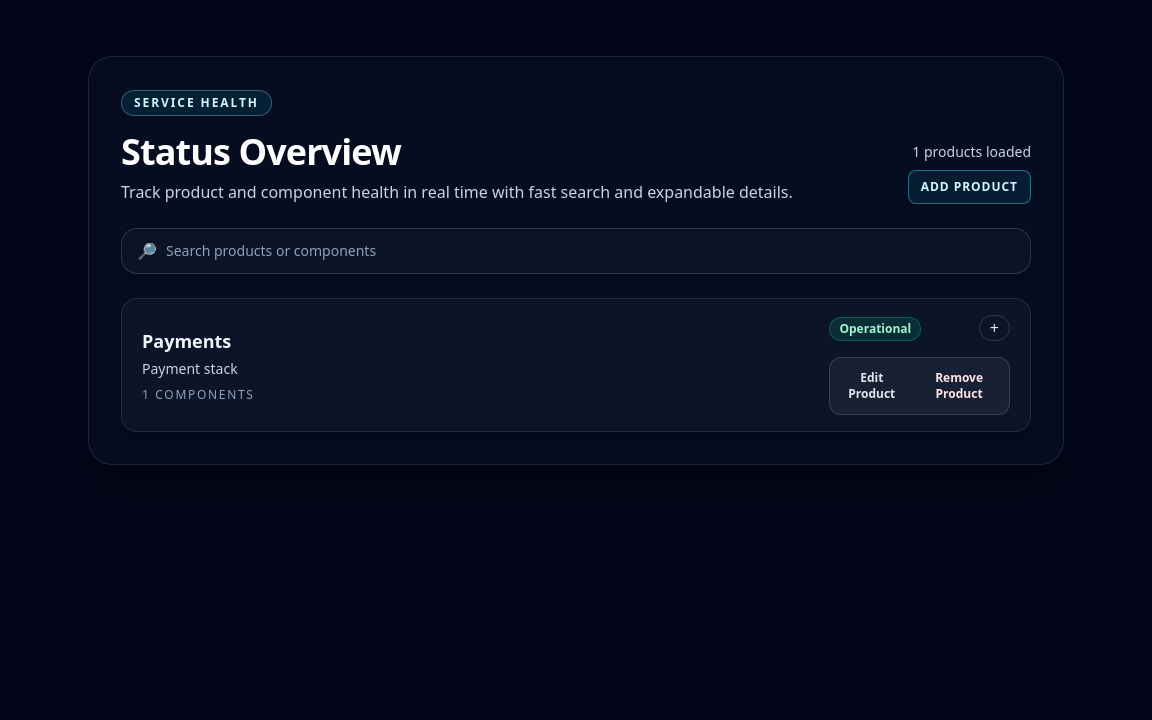
StatusPageComponent › keeps remove confirmation open and shows inline error when delete fails
Click the button "Remove Product" at (959, 386), box [913,362,1005,410]
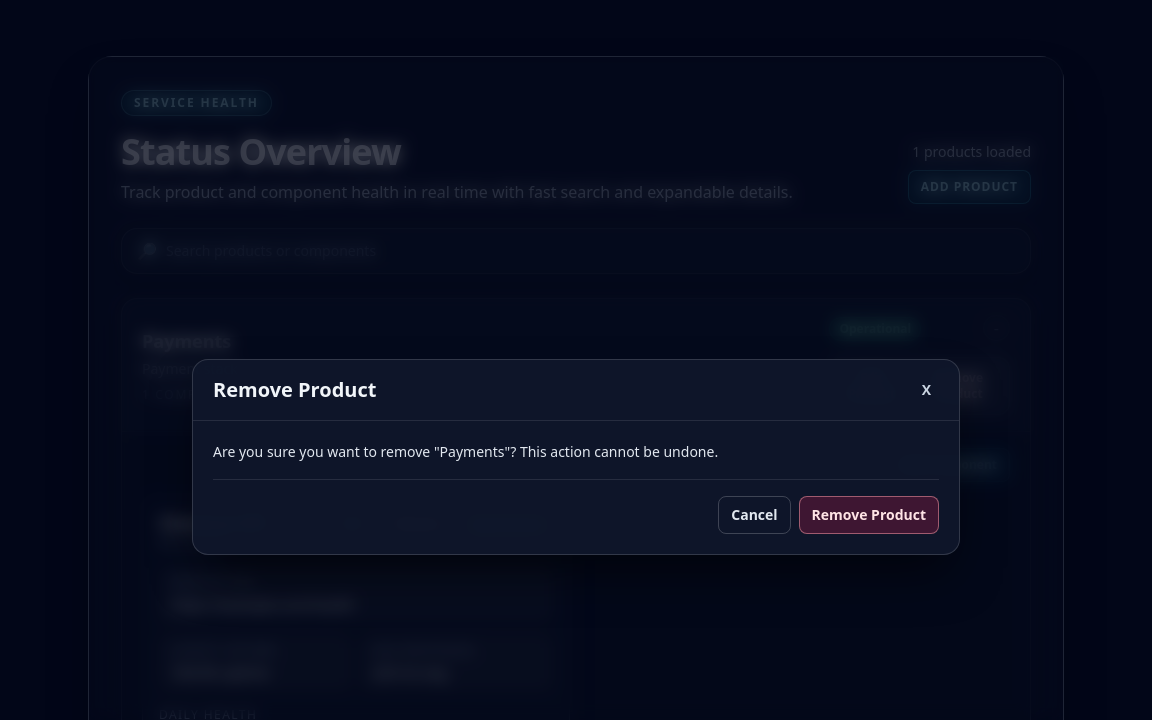
Click the button "Remove Product" at (869, 515), box [799,496,939,534]
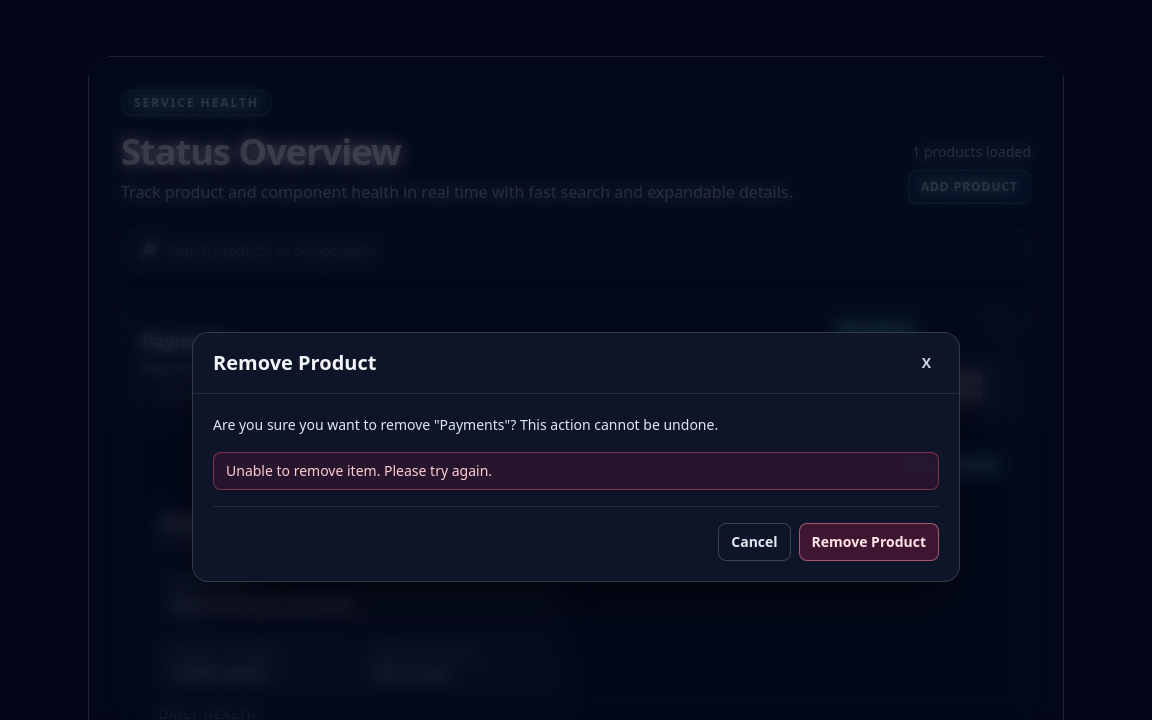
expect the text "Unable to remove item. Please try again." is shown: met, box [213,452,939,490]
